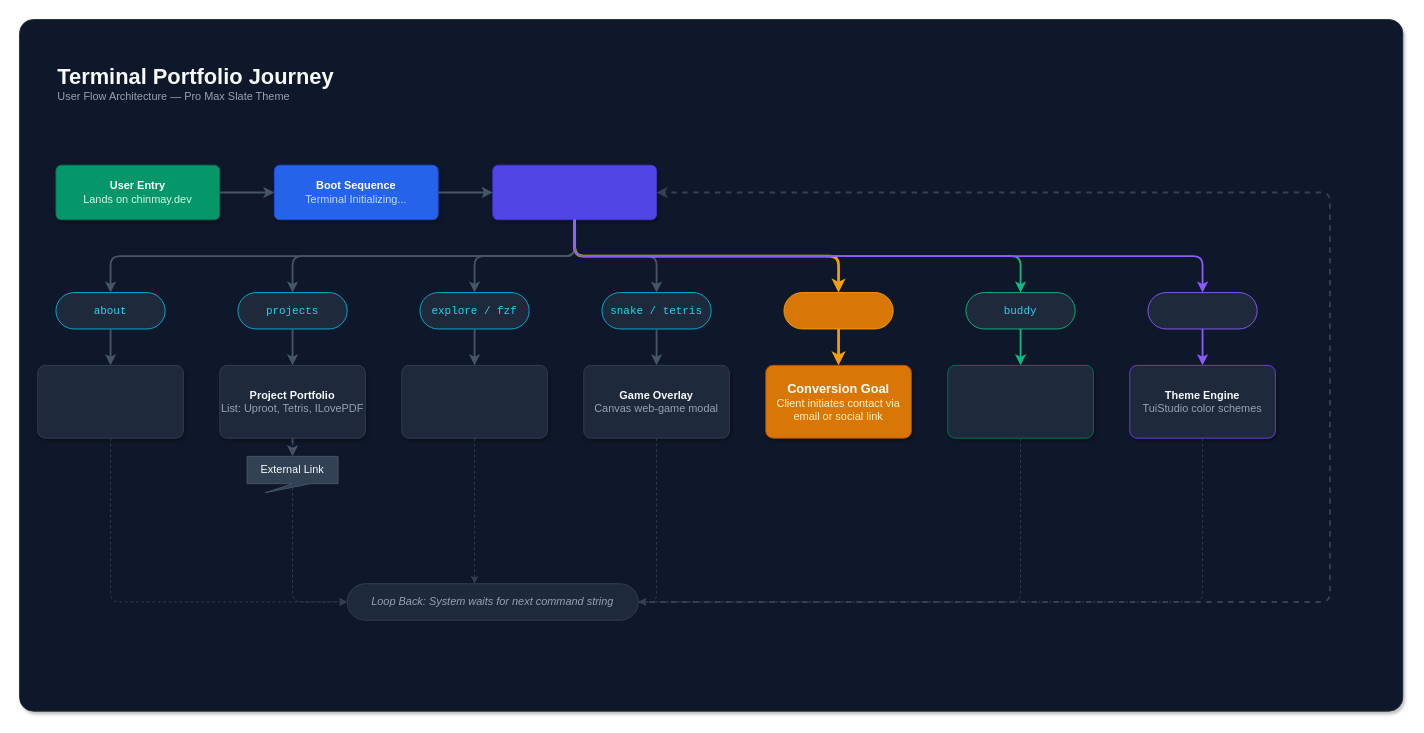
The diagram is 1424 pixels wide and 733 high, and some of its shapes have lost their labels. The shapes that lost their labels are listed below. From the top down, each one's centre as x and y in pixels, then its label:
At pixel 575 193: "Interactive Shell chinmay@portfolio:~$ _".
At pixel 838 310: "contact".
At pixel 1202 310: "theme".
At pixel 111 403: "Profile View Displays bio & work history".
At pixel 475 403: "TUI File Manager Interactive 3-pane utility".
At pixel 1021 403: "Virtual Pet Interactive Tamagotchi".
